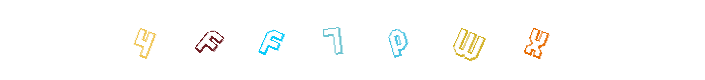4: (169, 0, 249, 80)
7: (314, 0, 394, 80)
F: (231, 0, 311, 80), (312, 0, 392, 80)
P: (322, 0, 402, 80)
W: (350, 0, 430, 80)
X: (496, 0, 576, 80)
